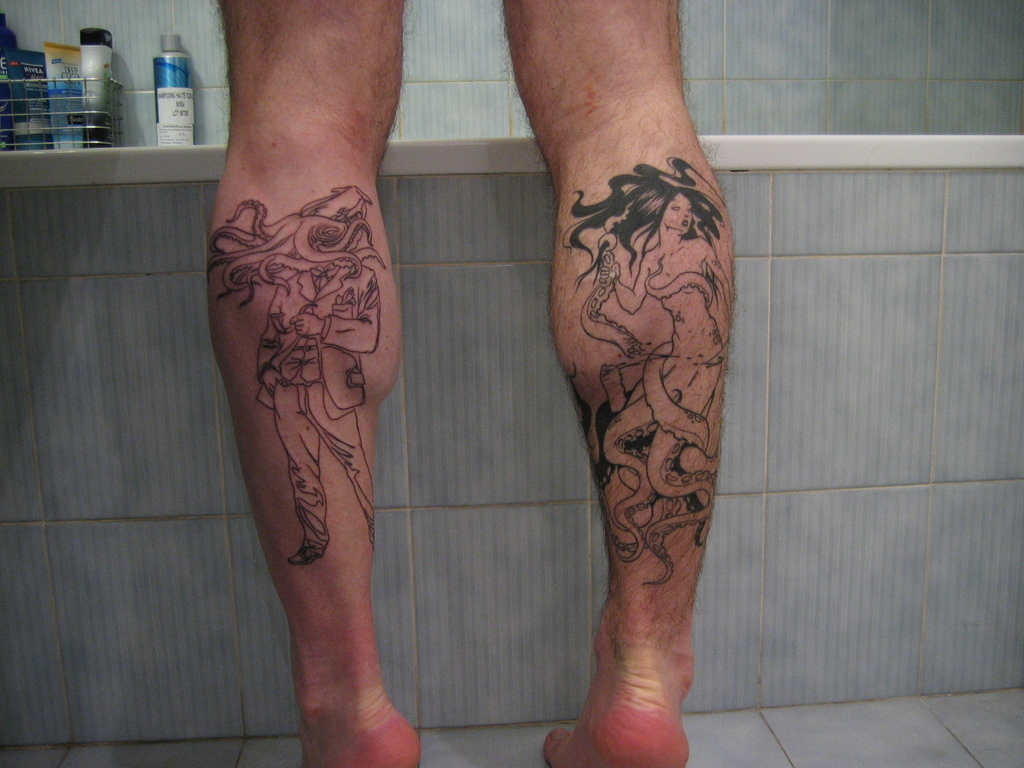Person: (206, 0, 736, 768)
